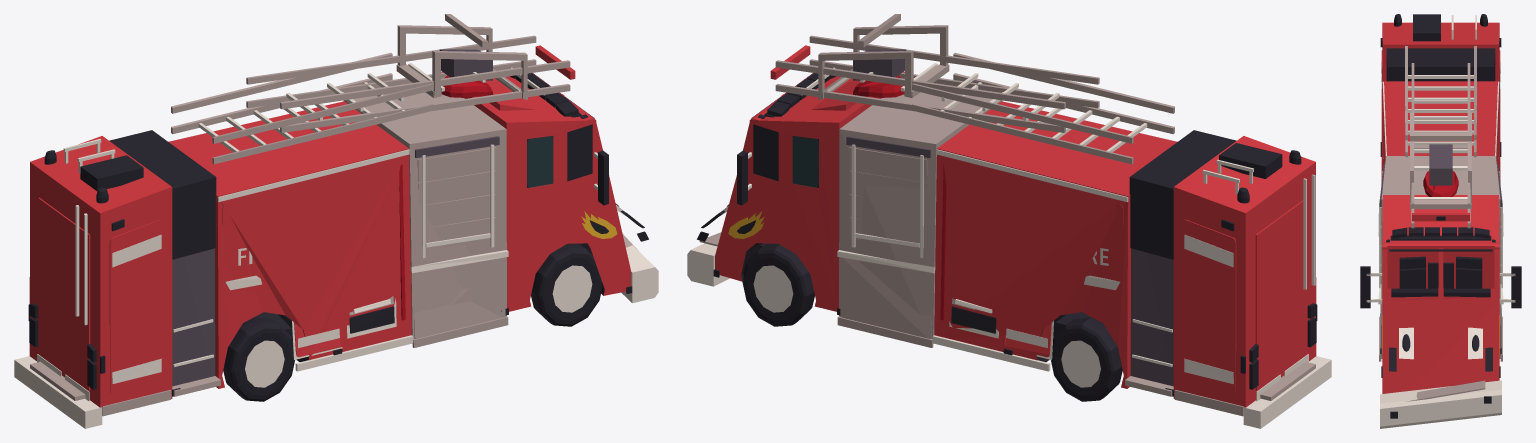
The model's file is model.wrecked.glb.
3 renders of one model, left to right at view 1: azimuth 30°, elevation 25°; view 2: azimuth 150°, elevation 25°; view 3: azimuth 270°, elevation 25°, orthographic. The views are drawn at different scales.
Parts seen in each view (by area): view 1: root_pal_survivorRed, root_pal_sidewalk, ladder_pal_sidewalk, root_pal_uiDark, root_pal_picketWhite, root_pal_asphalt, body_pal_picketWhite, wheelRL_pal_uiDark, wheelFL_pal_uiDark, ladder_pal_picketWhite, wheelRL_pal_picketWhite, wheelFL_pal_picketWhite (+5 smaller); view 2: root_pal_survivorRed, root_pal_sidewalk, ladder_pal_sidewalk, root_pal_uiDark, root_pal_picketWhite, root_pal_asphalt, wheelRR_pal_uiDark, body_pal_picketWhite, wheelFR_pal_uiDark, ladder_pal_picketWhite, wheelRR_pal_picketWhite, wheelFR_pal_picketWhite (+5 smaller); view 3: root_pal_survivorRed, root_pal_uiDark, root_pal_sidewalk, body_pal_picketWhite, ladder_pal_sidewalk, ladder_pal_picketWhite, root_pal_picketWhite, ladder_pal_asphalt, body_pal_sidewalk, ladder_pal_blood, ladder_pal_survivorRed, sirenL_pal_uiDark (+3 smaller).
Boxes of the visible parts, box(x1,y1,x2,y2) form: root_pal_survivorRed: box(29, 71, 630, 407); root_pal_sidewalk: box(102, 92, 508, 416); ladder_pal_sidewalk: box(171, 14, 570, 164); root_pal_uiDark: box(28, 73, 648, 373); root_pal_picketWhite: box(37, 137, 625, 401); root_pal_asphalt: box(172, 136, 499, 386); body_pal_picketWhite: box(14, 245, 658, 428); wheelRL_pal_uiDark: box(223, 317, 294, 401); wheelFL_pal_uiDark: box(531, 243, 602, 326); ladder_pal_picketWhite: box(198, 63, 544, 152); wheelRL_pal_picketWhite: box(245, 340, 284, 387); wheelFL_pal_picketWhite: box(552, 265, 592, 312); root_pal_survivorRed: box(715, 71, 1316, 407); root_pal_sidewalk: box(837, 92, 1243, 416); ladder_pal_sidewalk: box(775, 14, 1174, 164); root_pal_uiDark: box(697, 73, 1317, 373); root_pal_picketWhite: box(720, 137, 1315, 401); root_pal_asphalt: box(846, 136, 1173, 386); wheelRR_pal_uiDark: box(1051, 317, 1122, 401); body_pal_picketWhite: box(687, 243, 1331, 428); wheelFR_pal_uiDark: box(742, 243, 814, 326); ladder_pal_picketWhite: box(801, 63, 1147, 152); wheelRR_pal_picketWhite: box(1061, 340, 1100, 387); wheelFR_pal_picketWhite: box(753, 265, 793, 312); root_pal_survivorRed: box(1381, 22, 1500, 393); root_pal_uiDark: box(1360, 14, 1521, 377); root_pal_sidewalk: box(1378, 156, 1503, 361); body_pal_picketWhite: box(1380, 380, 1501, 428); ladder_pal_sidewalk: box(1405, 46, 1476, 228); ladder_pal_picketWhite: box(1408, 75, 1473, 199); root_pal_picketWhite: box(1366, 15, 1515, 359); ladder_pal_asphalt: box(1429, 144, 1452, 185); body_pal_sidewalk: box(1405, 380, 1485, 401); ladder_pal_blood: box(1423, 171, 1458, 196); ladder_pal_survivorRed: box(1412, 213, 1469, 221); sirenL_pal_uiDark: box(1392, 227, 1439, 238).
Size of the model in its own units: 7.19 by 3.53 by 2.1.
